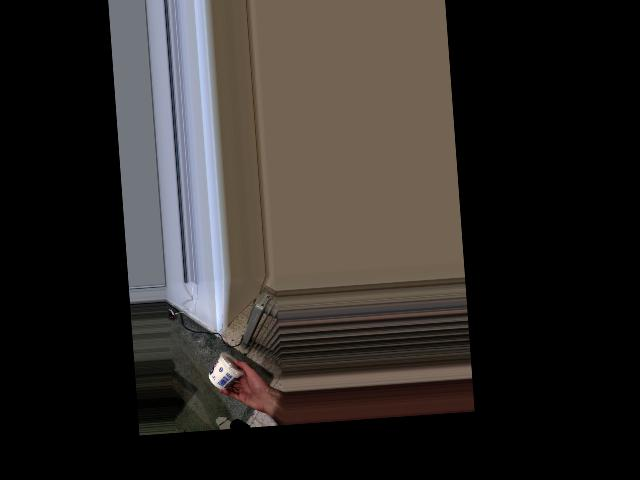cotage: (206, 349, 246, 392)
